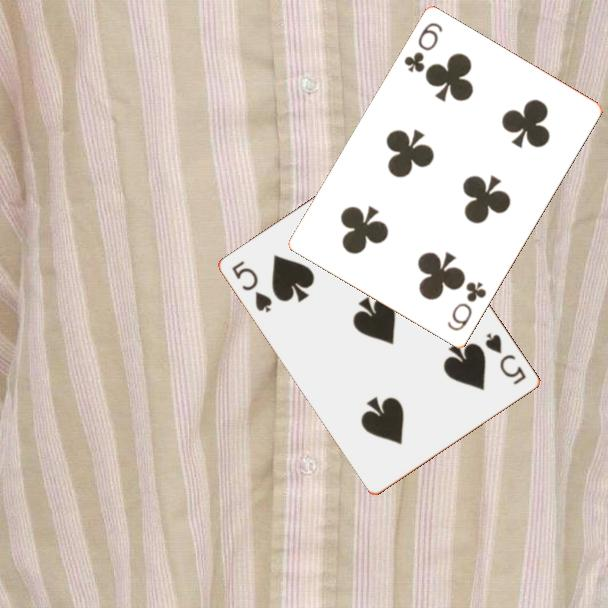c06: (444, 278, 490, 334), (401, 19, 446, 76)
s05: (482, 329, 530, 388), (229, 257, 276, 316)
